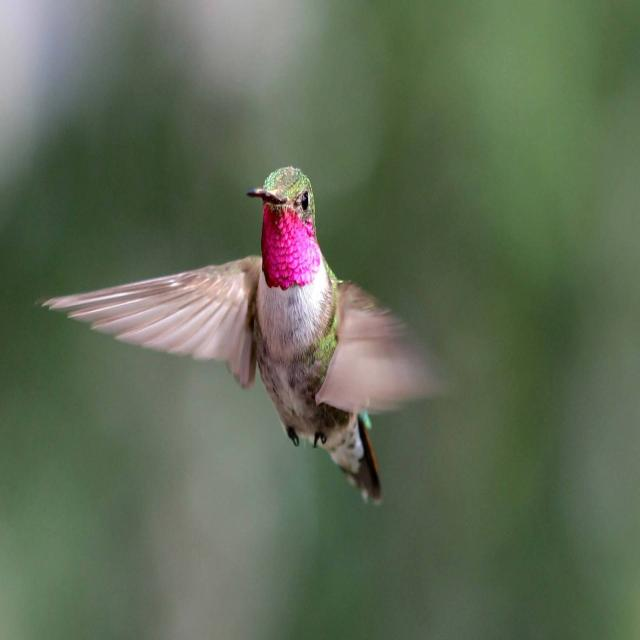Humming Bird: (42, 159, 429, 501)
